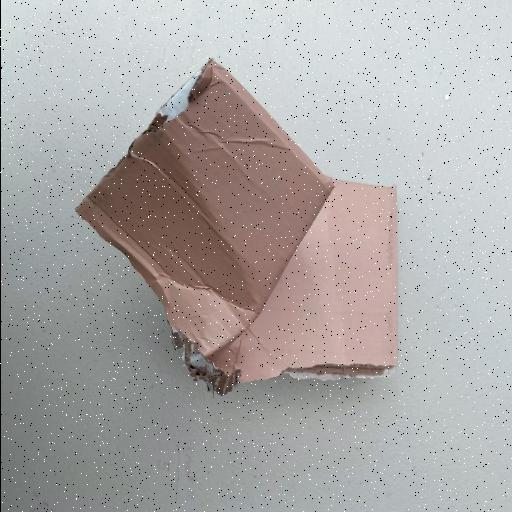Cardboard: (74, 58, 400, 396)
